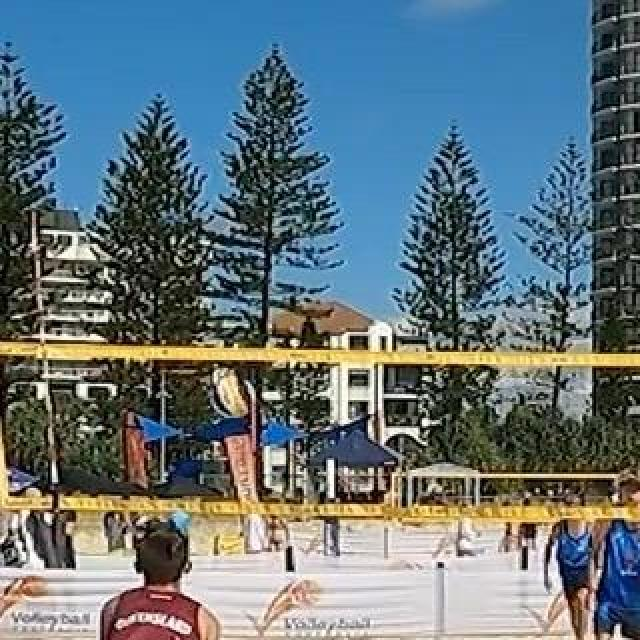volleyball: (213, 373, 257, 419)
